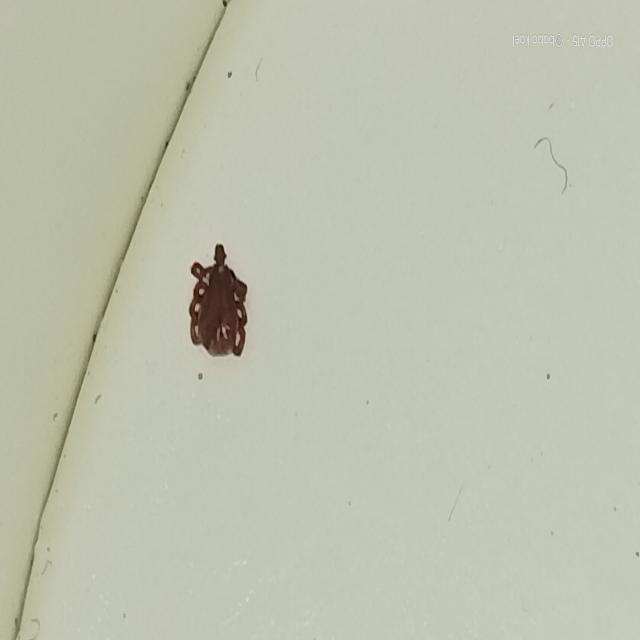Rhipicephalus Sanguineus-M: (188, 242, 248, 357)
